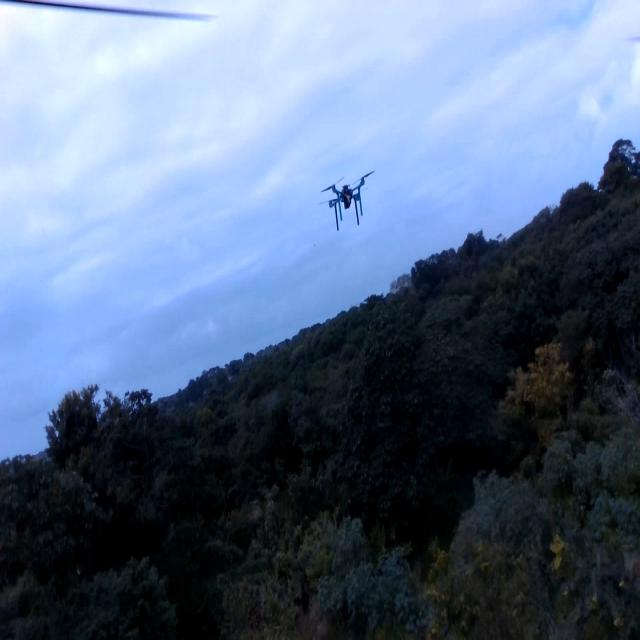-uav-: (316, 172, 379, 231)
